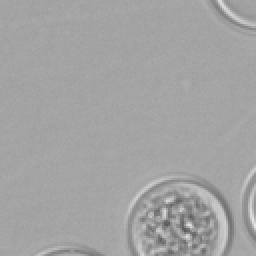picoshell: (126, 174, 232, 254), (206, 0, 254, 34), (240, 164, 254, 240), (34, 246, 100, 254)
